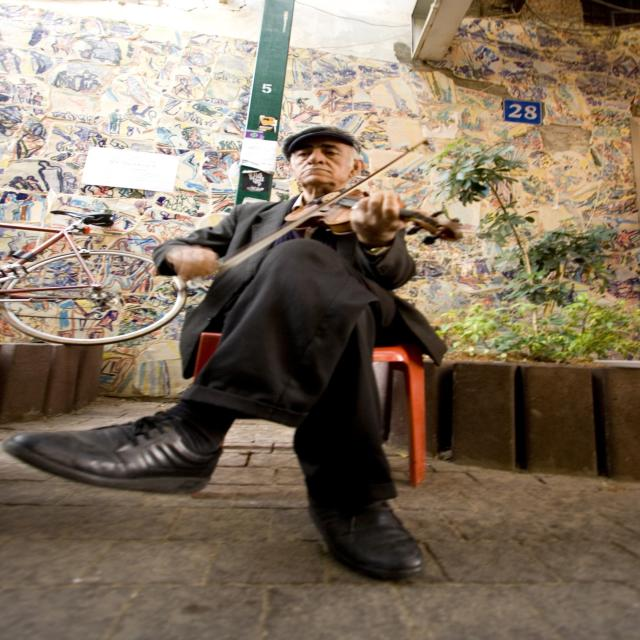violin: (281, 188, 468, 245)
